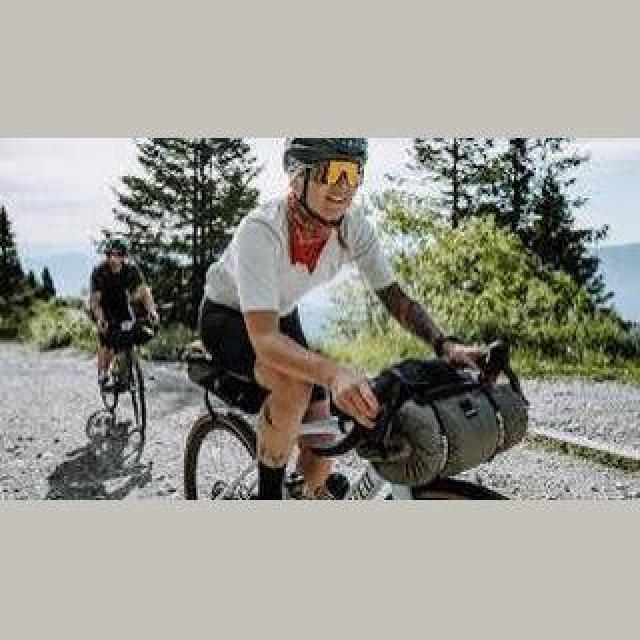MC-Bike: (196, 140, 492, 492), (88, 238, 160, 416)
Person: (171, 318, 535, 500), (88, 322, 152, 470)
